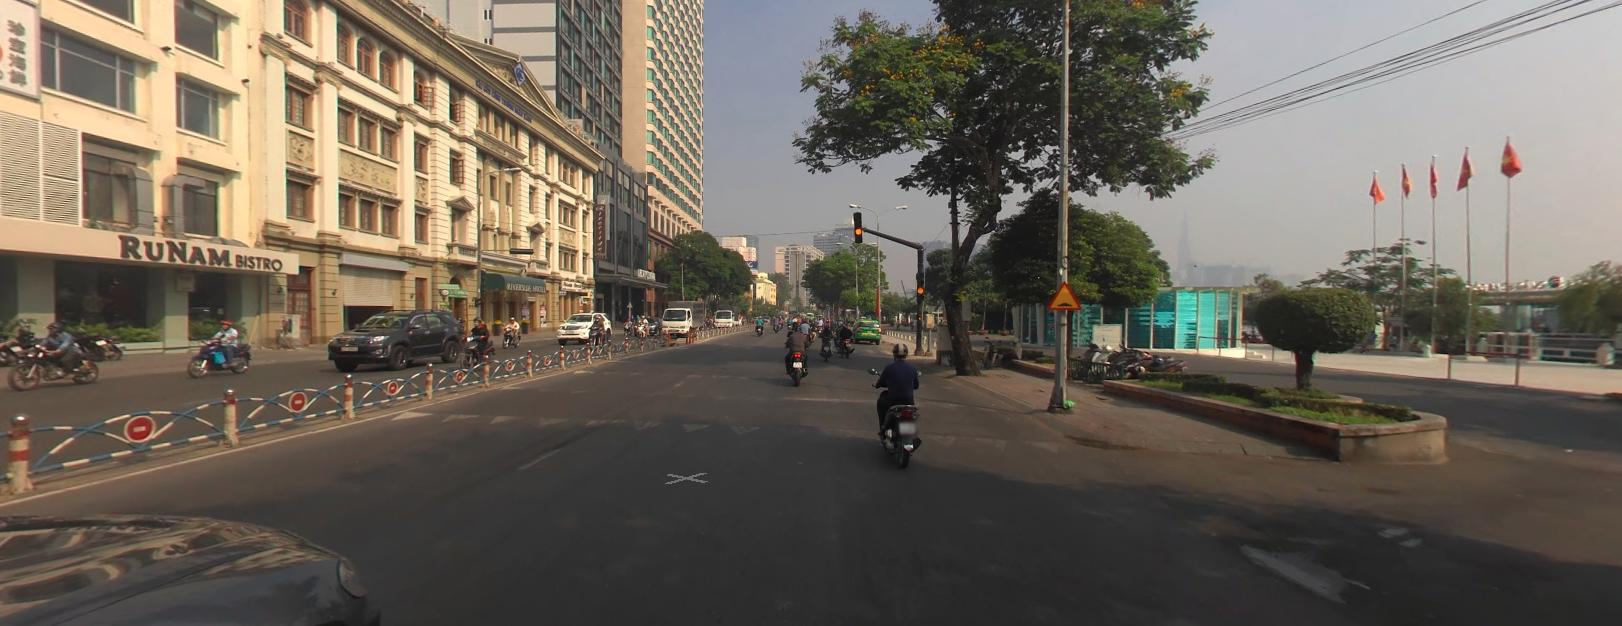Nguy hiem: (1045, 279, 1082, 309)
